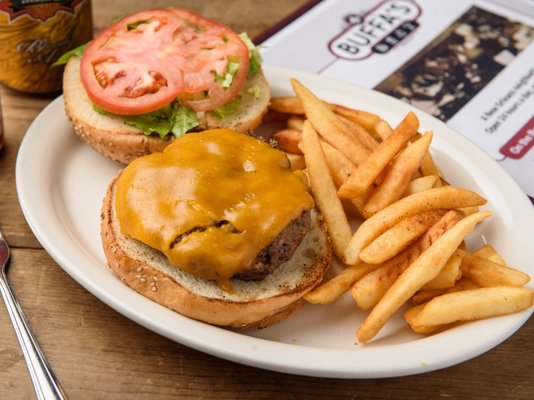pizza: (0, 0, 94, 97)
soup: (99, 128, 332, 330), (62, 6, 272, 166)
